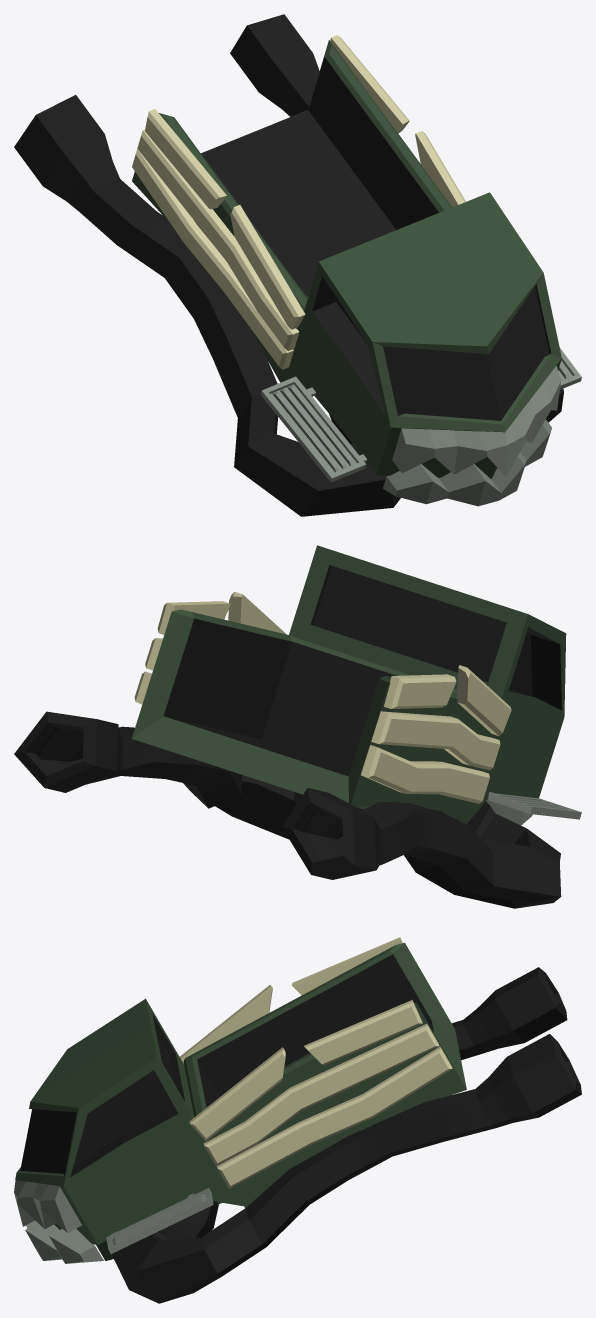
Rendered from Space_truck_003_Animated.fbx.
3 views of the same model, one above another, from view 1: azimuth 30°, elevation 25°; view 2: azimuth 150°, elevation 25°; view 3: azimuth 270°, elevation 25° (orthographic). The views are drawn at different scales.
Visible parts, largest first — view 1: Space_truck_001; view 2: Space_truck_001; view 3: Space_truck_001.
Part boxes in pixels (left/top/right/bottom): Space_truck_001: left=14, top=14, right=581, bottom=516; Space_truck_001: left=14, top=545, right=581, bottom=908; Space_truck_001: left=14, top=937, right=581, bottom=1303.
Bounding box in the file's own units: 10123 × 9130 × 15836.
